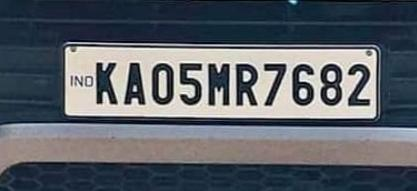0: (150, 61, 176, 106)
2: (346, 61, 375, 109)
5: (177, 59, 205, 111)
6: (290, 60, 316, 107)
7: (261, 60, 287, 108)
8: (319, 60, 345, 109)
A: (121, 59, 147, 110)
K: (92, 59, 120, 108)
M: (206, 60, 232, 109)
R: (233, 60, 259, 110)
